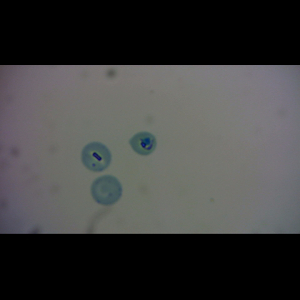erythrocyte: (81, 142, 112, 172), (129, 132, 156, 155)
punctate reticulocyte: (91, 175, 123, 205)
